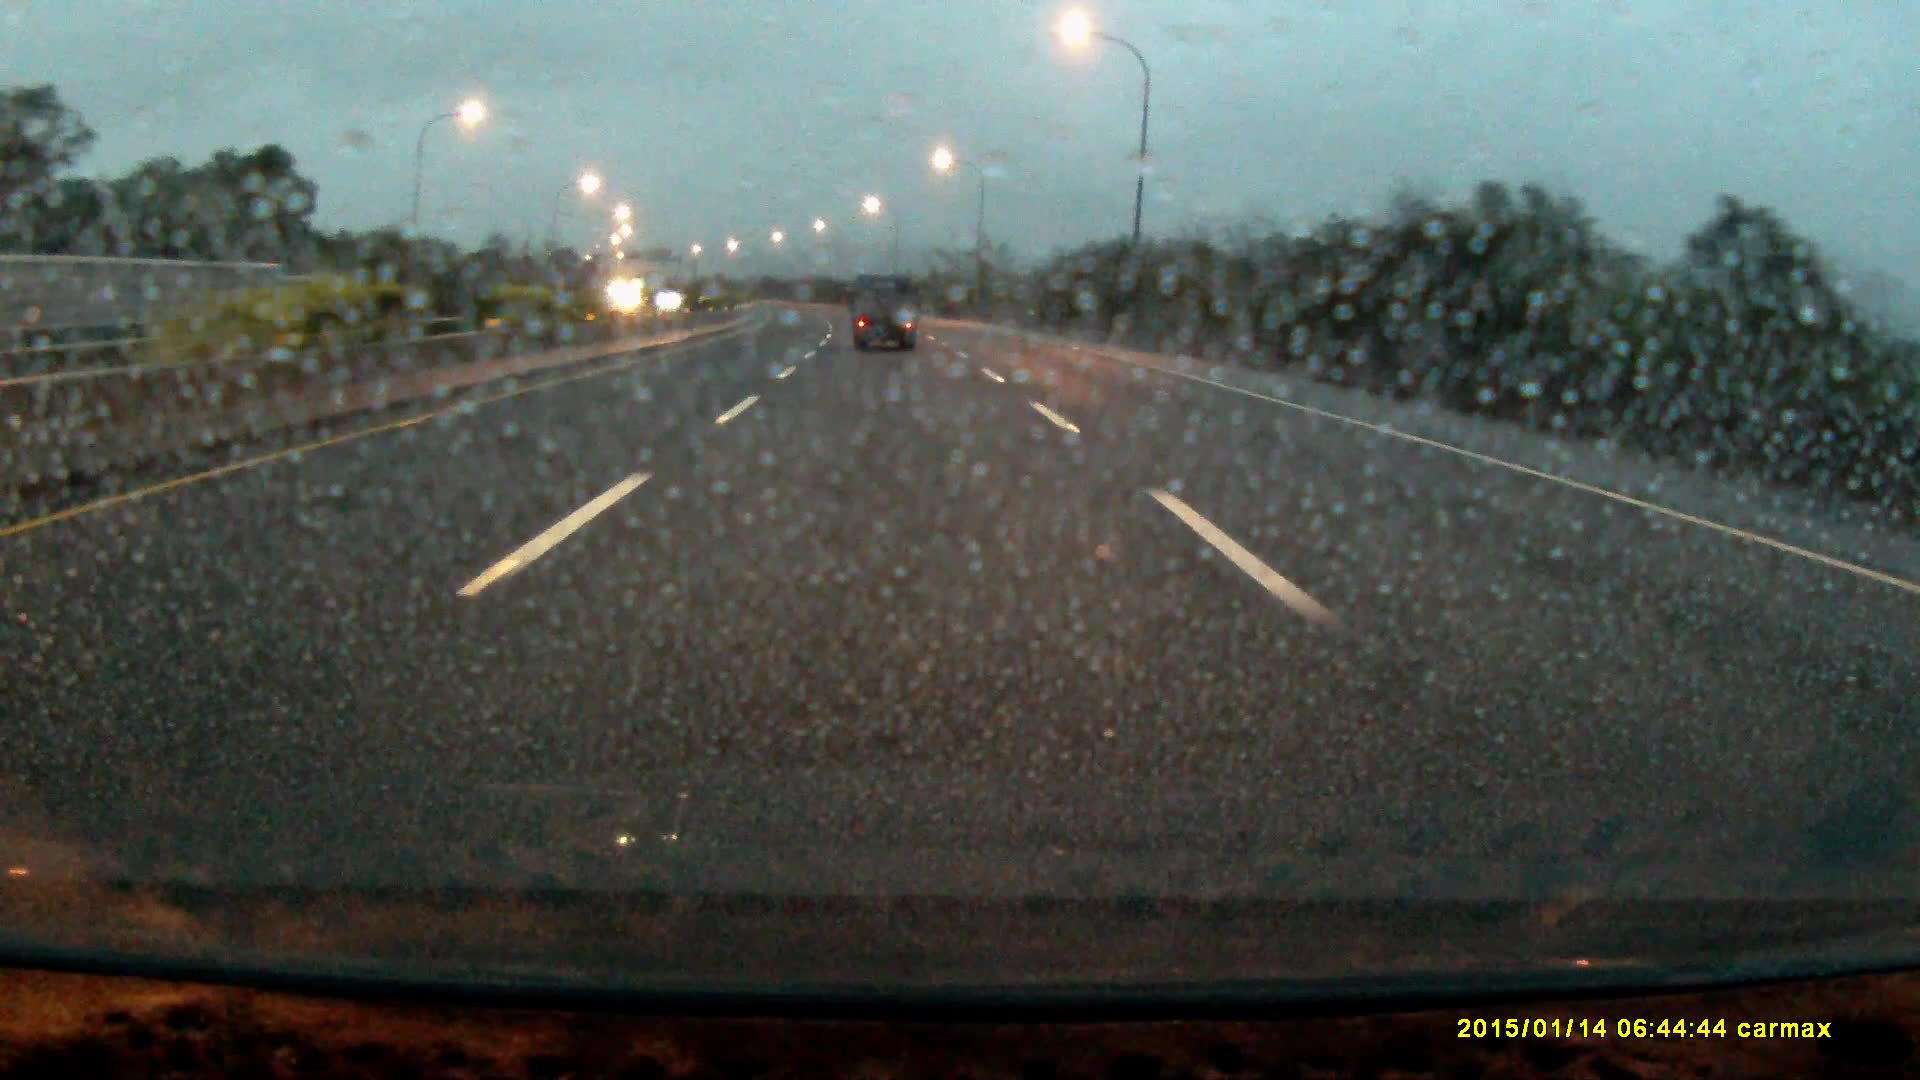vehicle: (851, 272, 920, 353)
